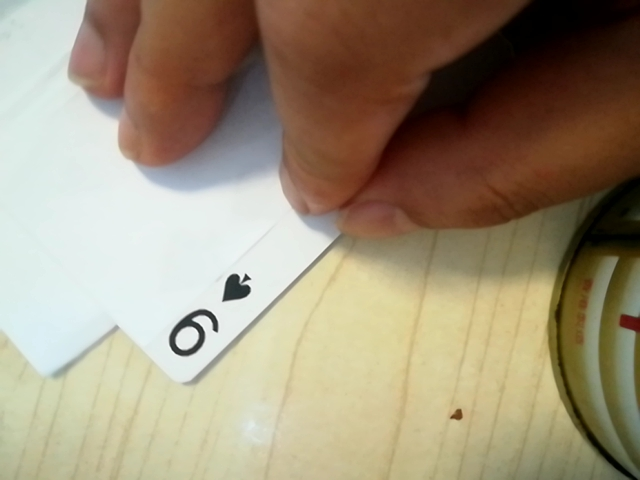ht 9: (154, 252, 270, 373)
